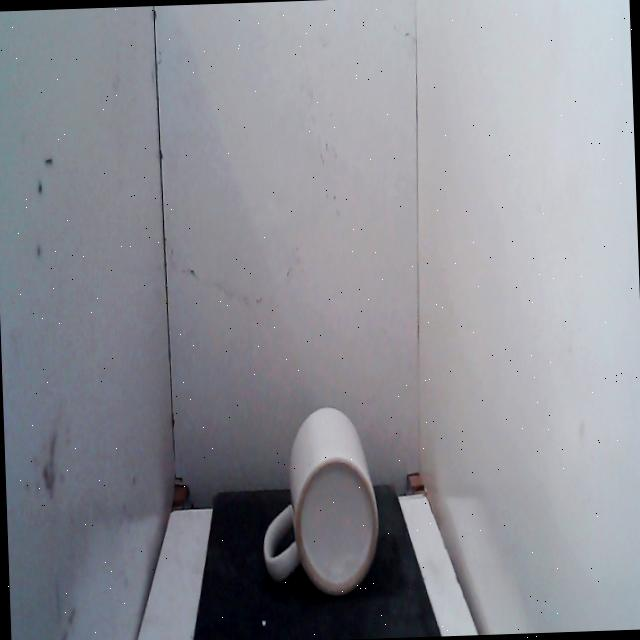glass: (242, 394, 390, 608)
